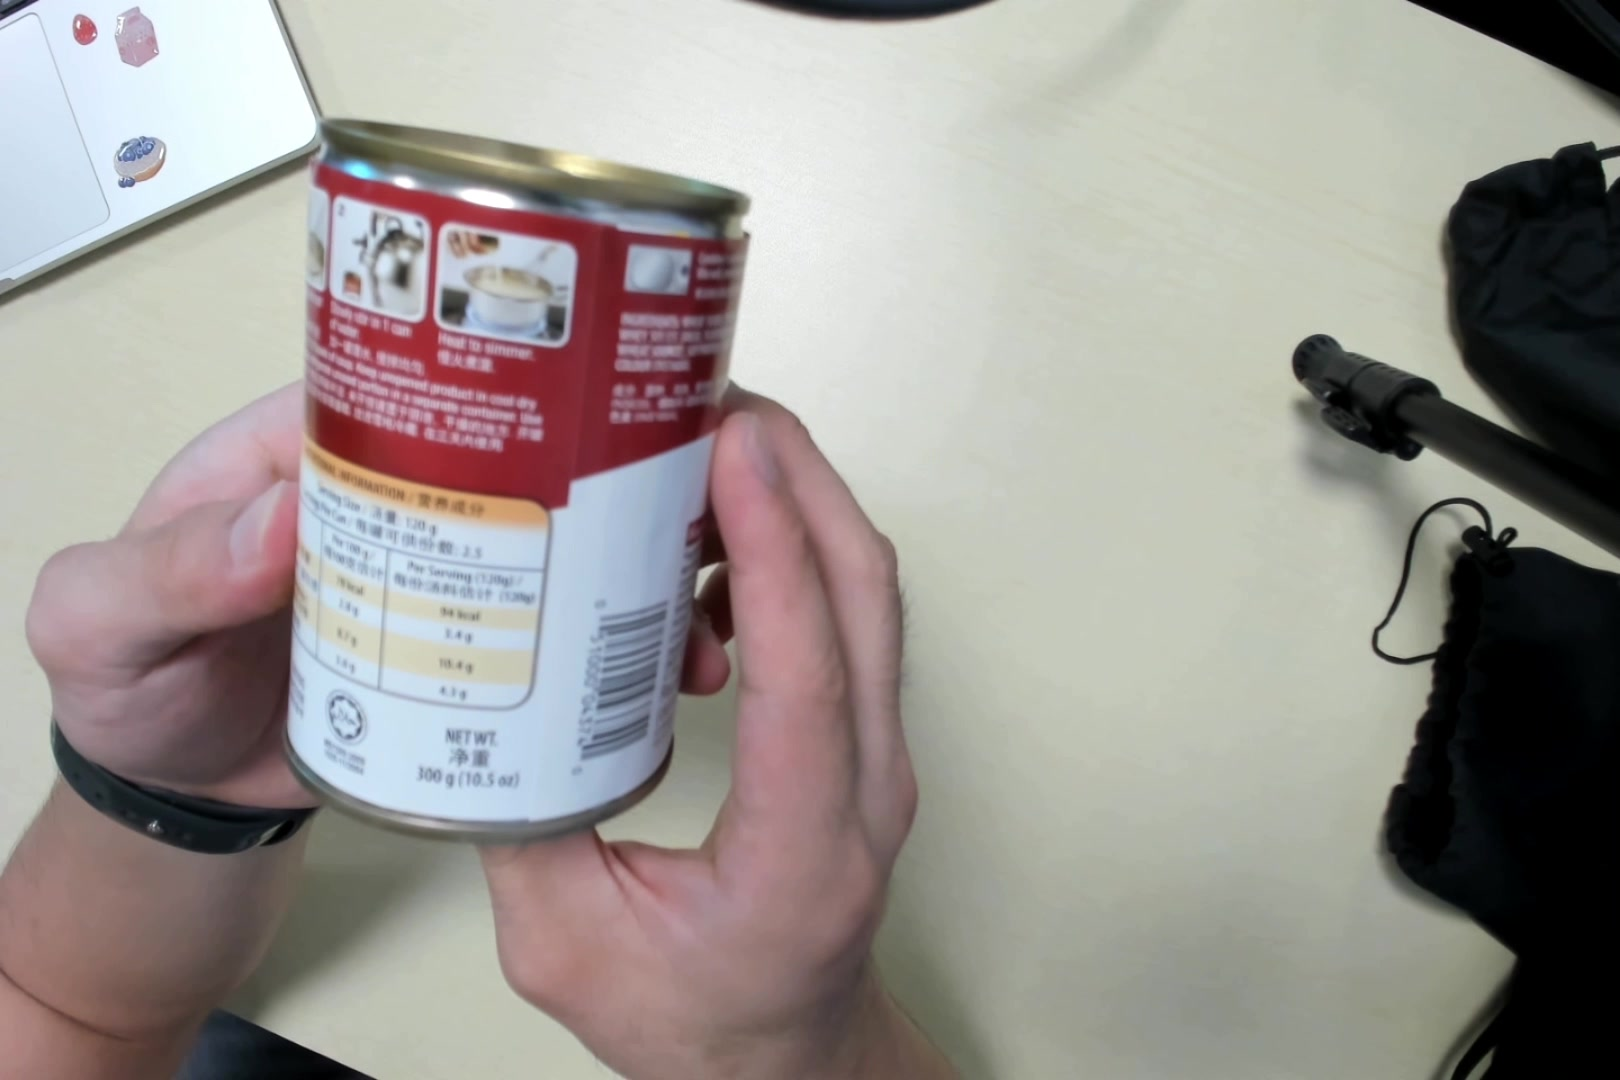CannedSoup_300-399g_Halal_NonHealthy: (284, 118, 745, 839)
